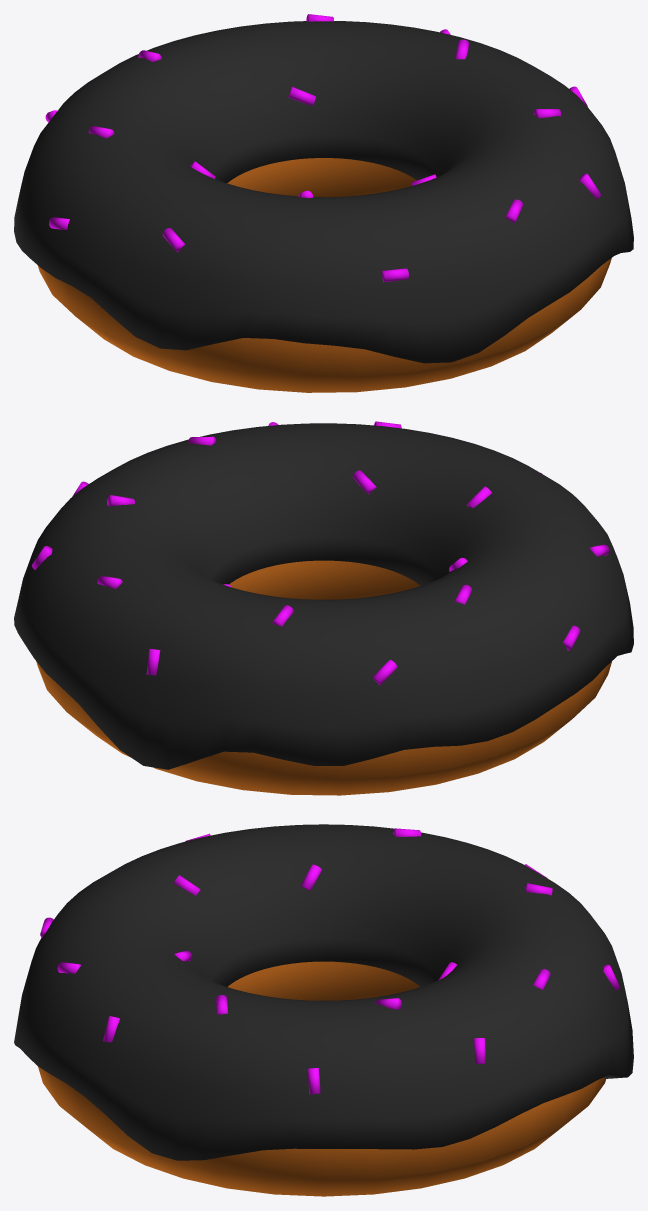
File: Donnet.fbx
The picture shows the model from 3 angles, top to bottom: view 1: azimuth 30°, elevation 25°; view 2: azimuth 150°, elevation 25°; view 3: azimuth 270°, elevation 25°; orthographic projection.
Parts seen in each view (by area): view 1: Donnet; view 2: Donnet; view 3: Donnet.
Boxes of the visible parts, box(x1,y1,x2,y2) form: Donnet: box(14, 14, 633, 392); Donnet: box(14, 421, 633, 795); Donnet: box(14, 824, 633, 1196).
Size of the model in its own units: 1.11 by 1.11 by 0.3702.
